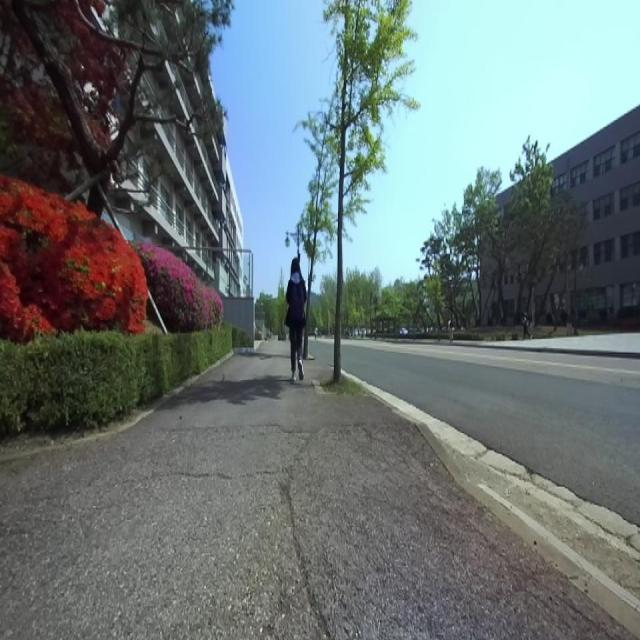sidewalk: (0, 340, 631, 639), (341, 373, 640, 637)
